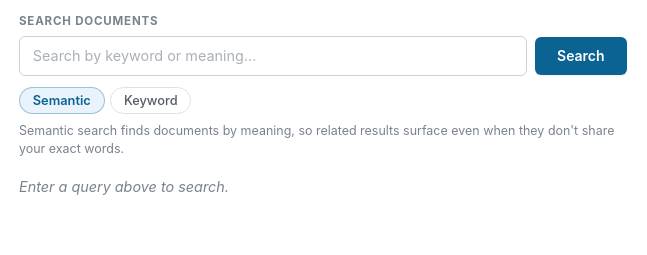
Scenario: SearchPanel › runs a search when the form is submitted
This screenshot has width=647, height=255.
Type "hello" into the search field at (273, 56), box [19,36,527,76]
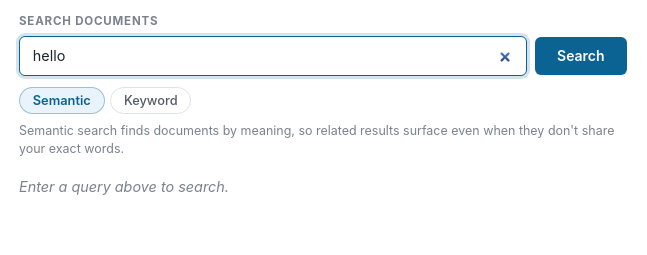
Click the button "Search" at (581, 56), box [535,37,627,75]
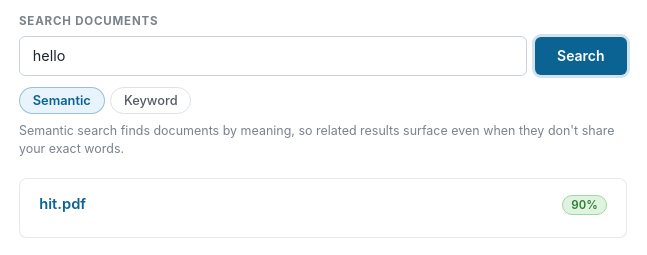
Check: the link "hit.pdf" is shown, box [39,195,86,213]
